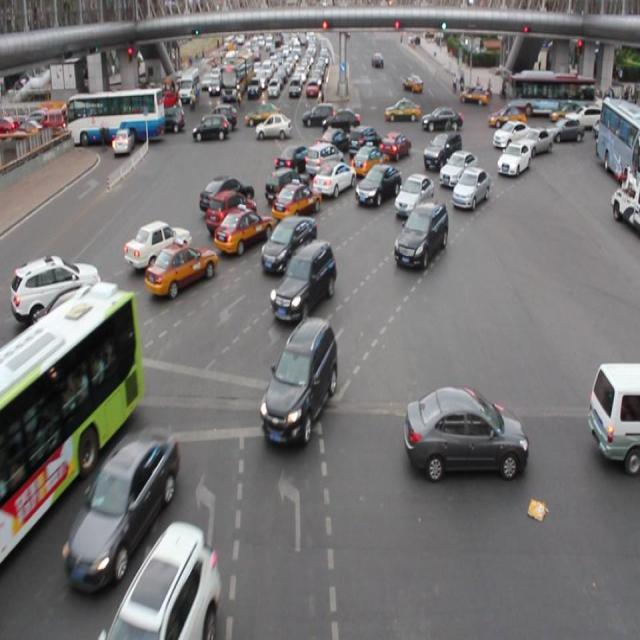car: (66, 426, 176, 586), (109, 522, 220, 640), (403, 383, 526, 481), (259, 317, 338, 446), (19, 284, 124, 362), (12, 255, 102, 322), (270, 238, 336, 324), (145, 241, 218, 295), (392, 201, 447, 270), (124, 218, 191, 274), (262, 216, 316, 274), (213, 207, 274, 258), (204, 190, 257, 233), (356, 162, 402, 208), (199, 177, 254, 215), (272, 180, 320, 222), (263, 167, 309, 209), (312, 159, 355, 201), (392, 172, 432, 216), (450, 167, 488, 209), (423, 132, 461, 170), (438, 148, 477, 185), (349, 144, 386, 181), (495, 140, 528, 178), (274, 142, 311, 174), (491, 121, 530, 149), (347, 127, 381, 159), (378, 131, 411, 162), (316, 129, 350, 157), (518, 129, 551, 157)
truck: (588, 362, 640, 468), (304, 143, 343, 177)
van: (1, 287, 138, 557)
